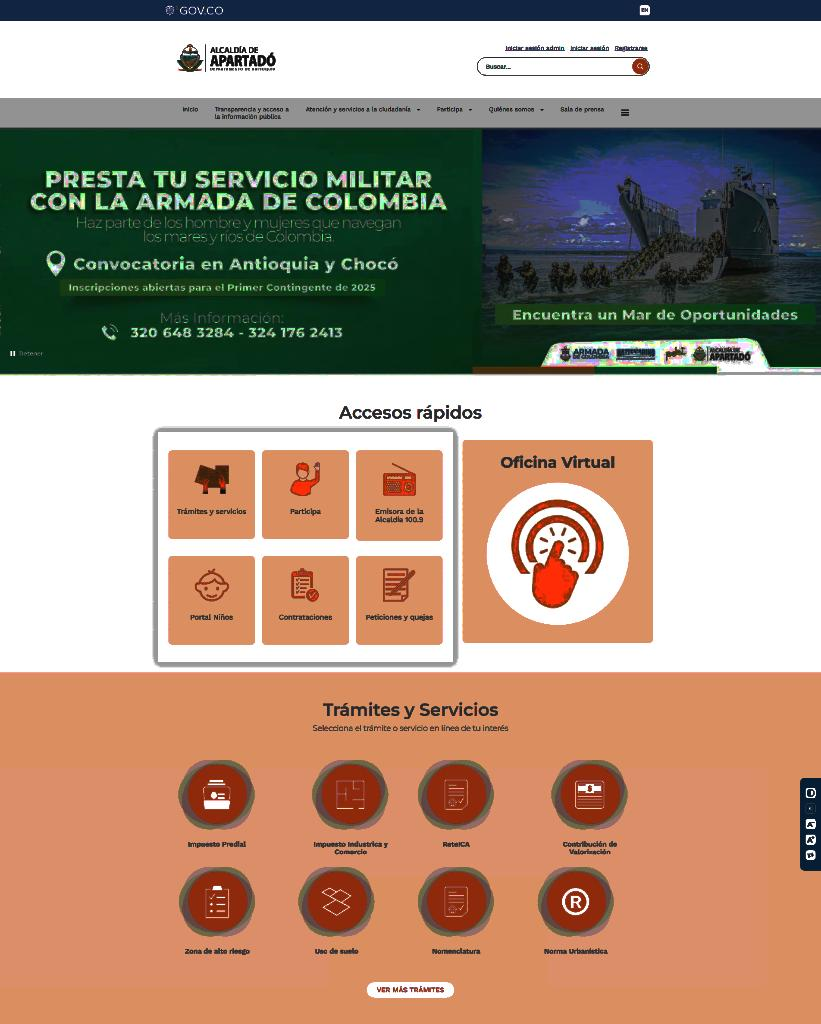banner principal: (0, 125, 821, 374)
barra accesibilidad: (801, 778, 821, 870)
barra govco: (164, 2, 652, 20)
btn atencion ciudadano: (304, 104, 422, 114)
btn buscador: (476, 56, 650, 78)
btn idiomas: (640, 5, 650, 15)
btn inicio: (182, 106, 200, 114)
btn participa: (436, 103, 475, 115), (286, 506, 324, 518)
btn quienes somos: (488, 105, 546, 115)
btn registro: (615, 42, 649, 54), (570, 44, 610, 54)
btn sala prensa: (560, 106, 606, 114)
btn tramites: (322, 700, 501, 722), (174, 506, 250, 518)
btn transpariencia: (213, 106, 290, 120)
logogovco: (166, 4, 224, 18)
menu principal: (180, 102, 632, 122)
